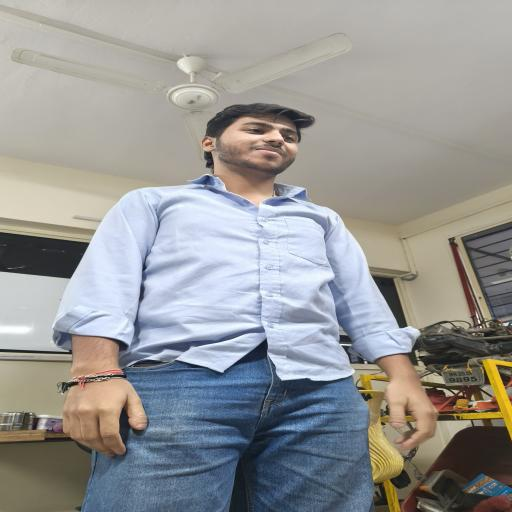survivor: (50, 103, 439, 512)
